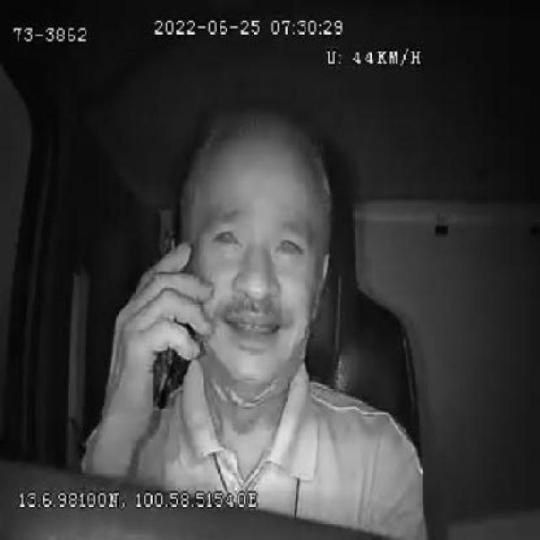phone: (145, 209, 191, 408)
